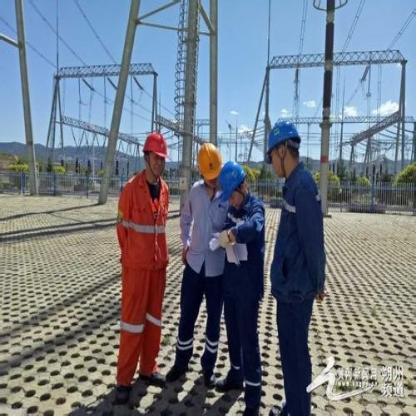capacete: (264, 116, 303, 178), (143, 128, 170, 180), (220, 160, 247, 212), (196, 140, 220, 189)
colete_refletivo: (115, 176, 169, 269)
sem_colete_refletivo: (271, 167, 327, 308), (180, 179, 226, 276), (225, 198, 267, 297)
